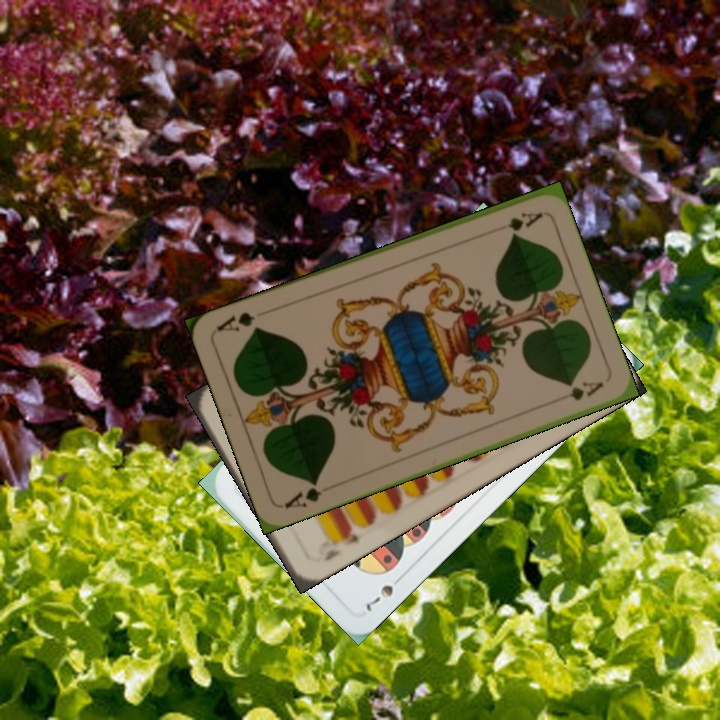E10: (319, 523, 362, 564)
GA: (487, 208, 545, 236), (280, 477, 325, 511)
S7: (361, 570, 407, 614)
